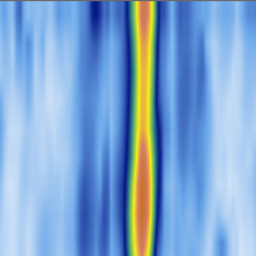defect: (116, 1, 162, 255), (176, 1, 191, 111), (77, 163, 94, 256), (98, 169, 110, 255), (88, 1, 103, 59)
